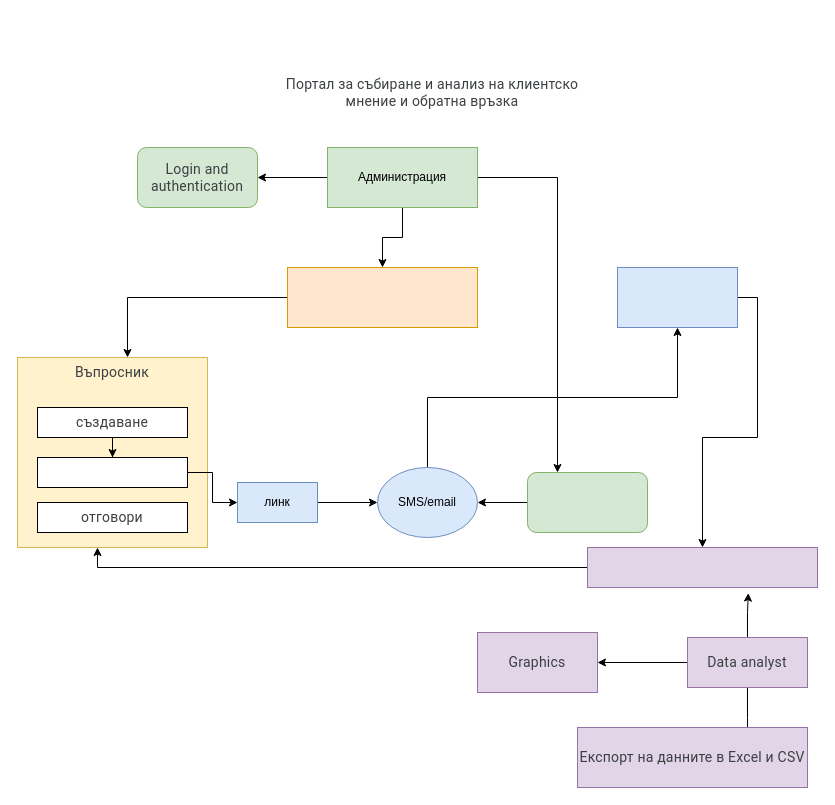
This 835x805 diagram has some shape labels left out. The shapes that lost their labels are listed below. From the top down, each one's centre as x and y in pixels, then its label:
At pixel 382 297: "Администратор".
At pixel 677 297: "Клиенти".
At pixel 112 472: "изпращане".
At pixel 587 502: "списък с клиенти".
At pixel 702 567: "Анализ на натрупаните данни".
